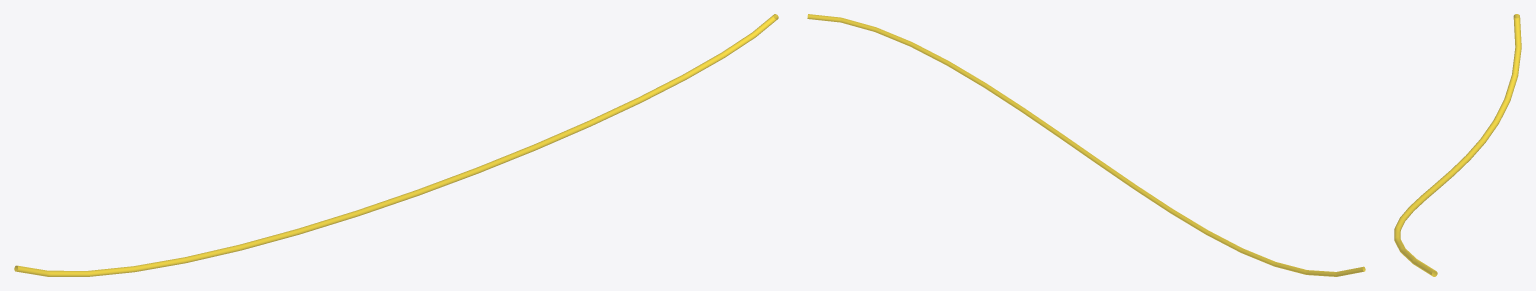
Rendered from Event_27938768_track_44.fbx.
3 renders of one model, left to right at view 1: azimuth 30°, elevation 25°; view 2: azimuth 150°, elevation 25°; view 3: azimuth 270°, elevation 25°, orthographic. The views are drawn at different scales.
Visible parts, largest first — view 1: Model; view 2: Model; view 3: Model.
Boxes of the visible parts, x1,y1,x2,y2 form: Model: (14,14,778,276); Model: (807,14,1365,276); Model: (1394,14,1521,276).
Size of the model in its own units: 5.4 by 0.9671 by 0.7905.
